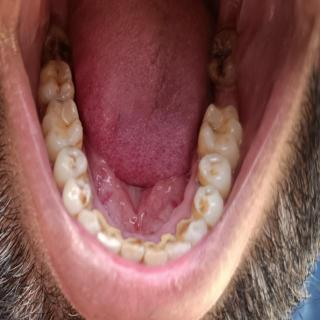LL1BC_mdecay: (190, 185, 224, 224)
LL1M_mdecay: (198, 104, 242, 163)
LL2BC_mdecay: (197, 153, 231, 194)
LL3M_sdecay: (209, 30, 239, 84)
LLCI_mdecay: (144, 242, 166, 263)
LLC_mdecay: (176, 218, 207, 241)
LLLI_mdecay: (162, 234, 191, 258)
LR1BC_mdecay: (62, 178, 92, 213)
LR1M_mdecay: (42, 100, 83, 152)
LR2BC_mdecay: (53, 147, 88, 182)
LR2M_mdecay: (38, 61, 75, 100)
LR3M_sdecay: (42, 27, 70, 61)
LRCI_mdecay: (120, 237, 145, 262)
LRC_healthy: (78, 209, 106, 232)
LRLI_mdecay: (98, 226, 121, 253)
